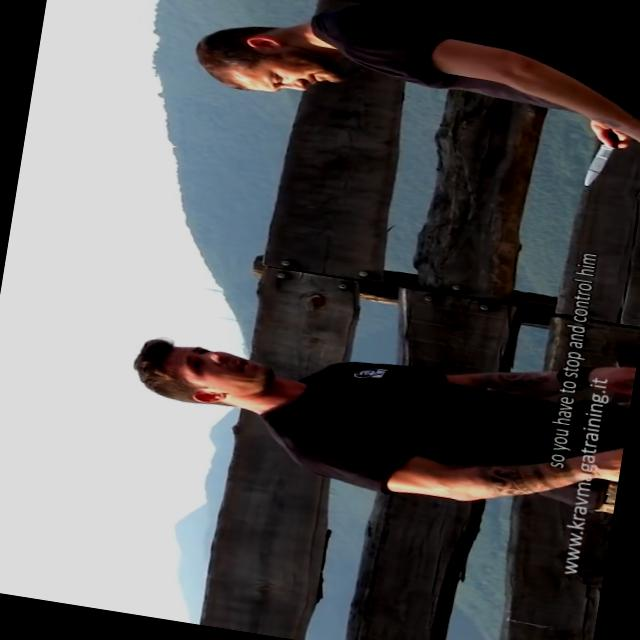knife: (572, 127, 634, 202)
